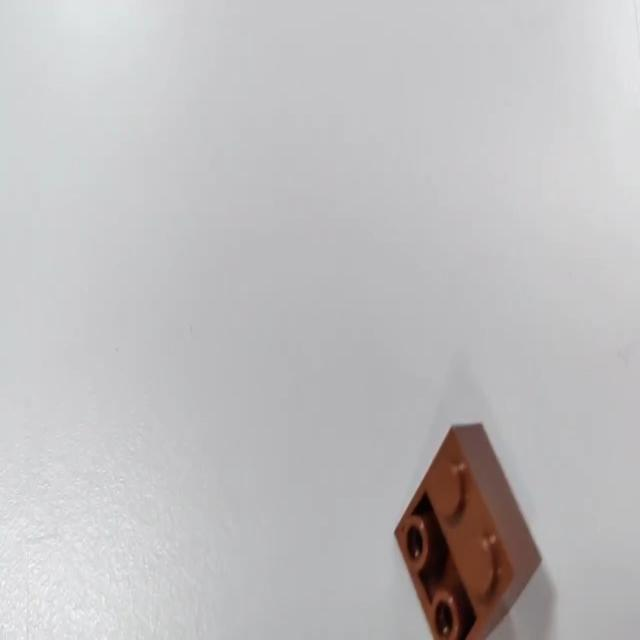X2x2x1: (393, 419, 543, 637)
